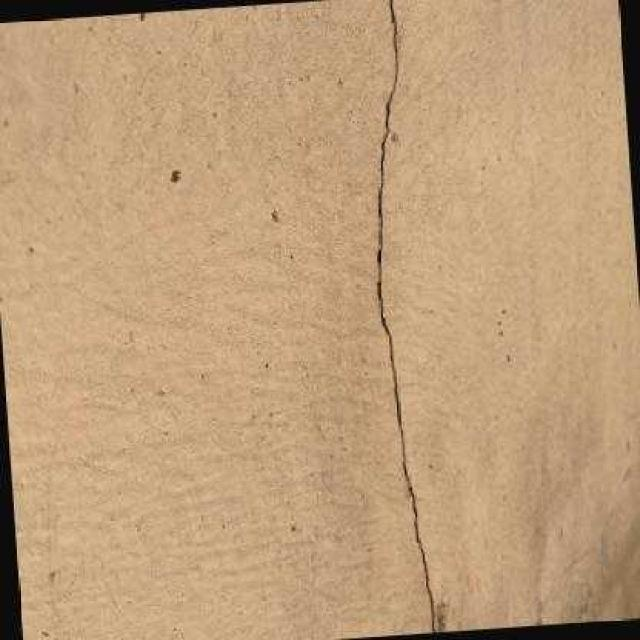D00: (375, 0, 435, 633)
